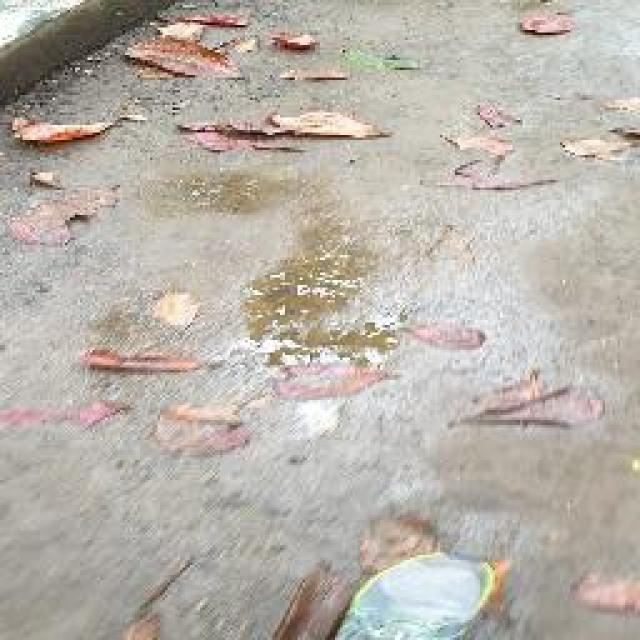puddle: (245, 237, 403, 364)
